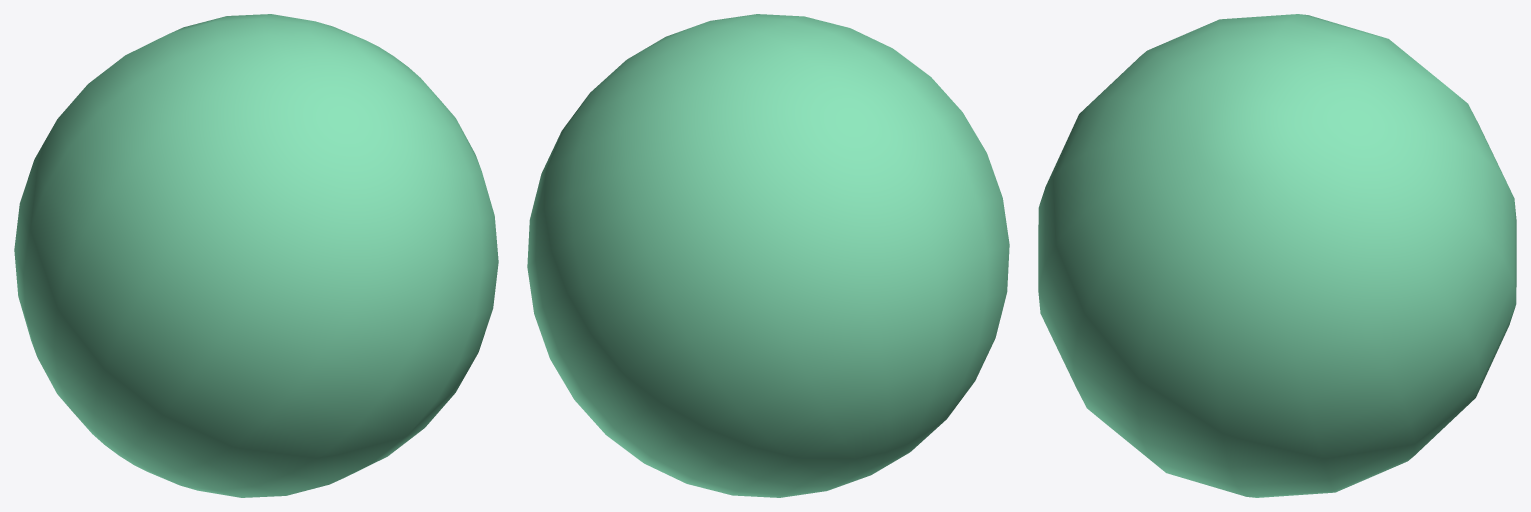
3 views of the same model, side by side, from view 1: azimuth 30°, elevation 25°; view 2: azimuth 150°, elevation 25°; view 3: azimuth 270°, elevation 25° (orthographic).
Parts seen in each view (by area): view 1: orb3.009; view 2: orb3.009; view 3: orb3.009.
Boxes of the visible parts, bbox=[...] form: orb3.009: bbox=[14, 14, 498, 497]; orb3.009: bbox=[527, 14, 1009, 497]; orb3.009: bbox=[1038, 14, 1516, 497].
Bounding box in the file's own units: 0.3988 × 0.3996 × 0.3924.
